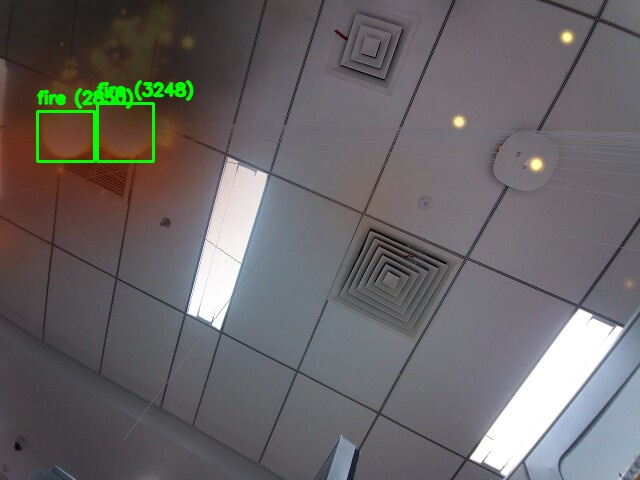fire: (97, 103, 153, 161), (37, 111, 94, 161)
